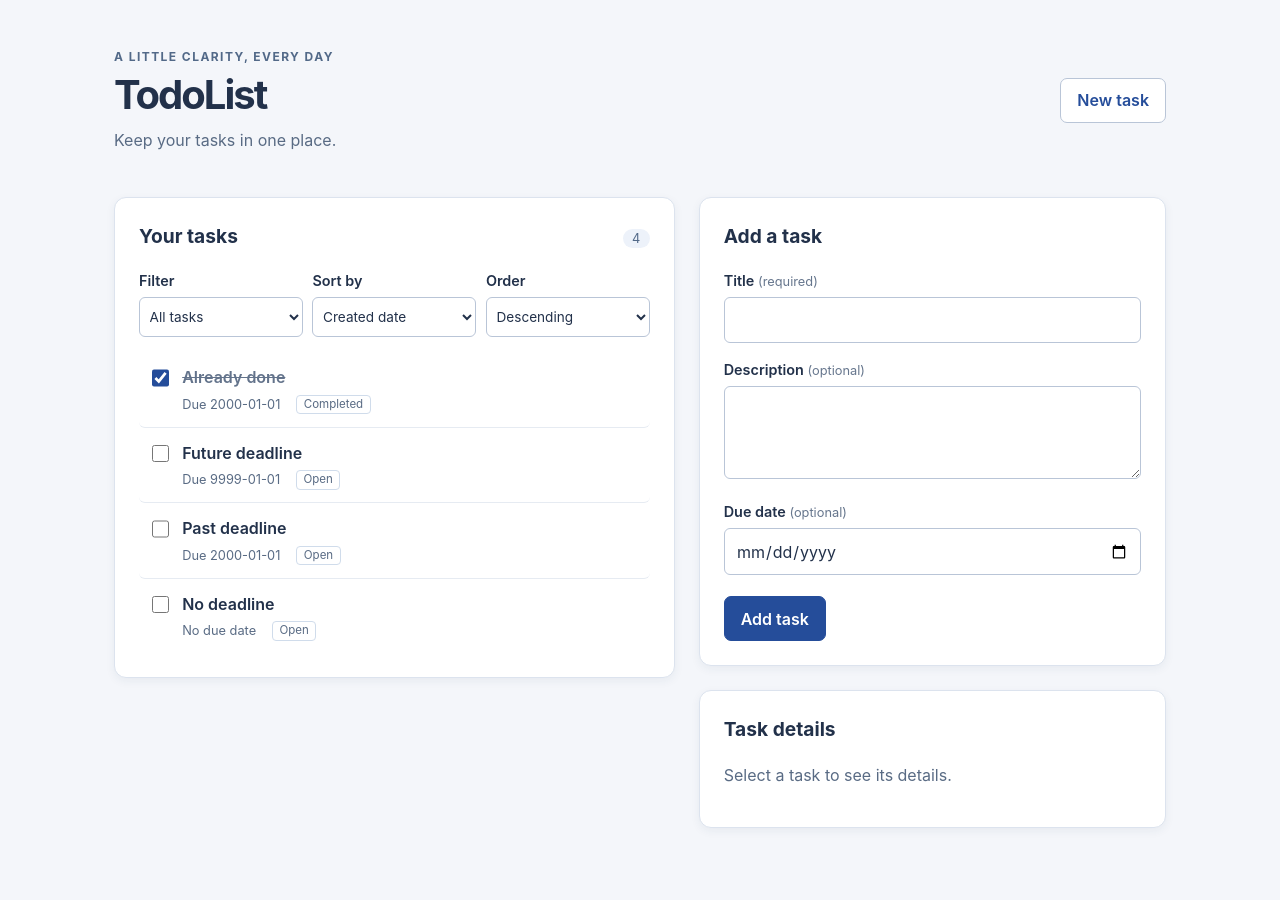
task workflow › shows overdue matches and distinguishes a filtered empty view from an empty task list
Select "Overdue" in the dropdown labelled "Filter" at (221, 317), box [139, 297, 303, 337]
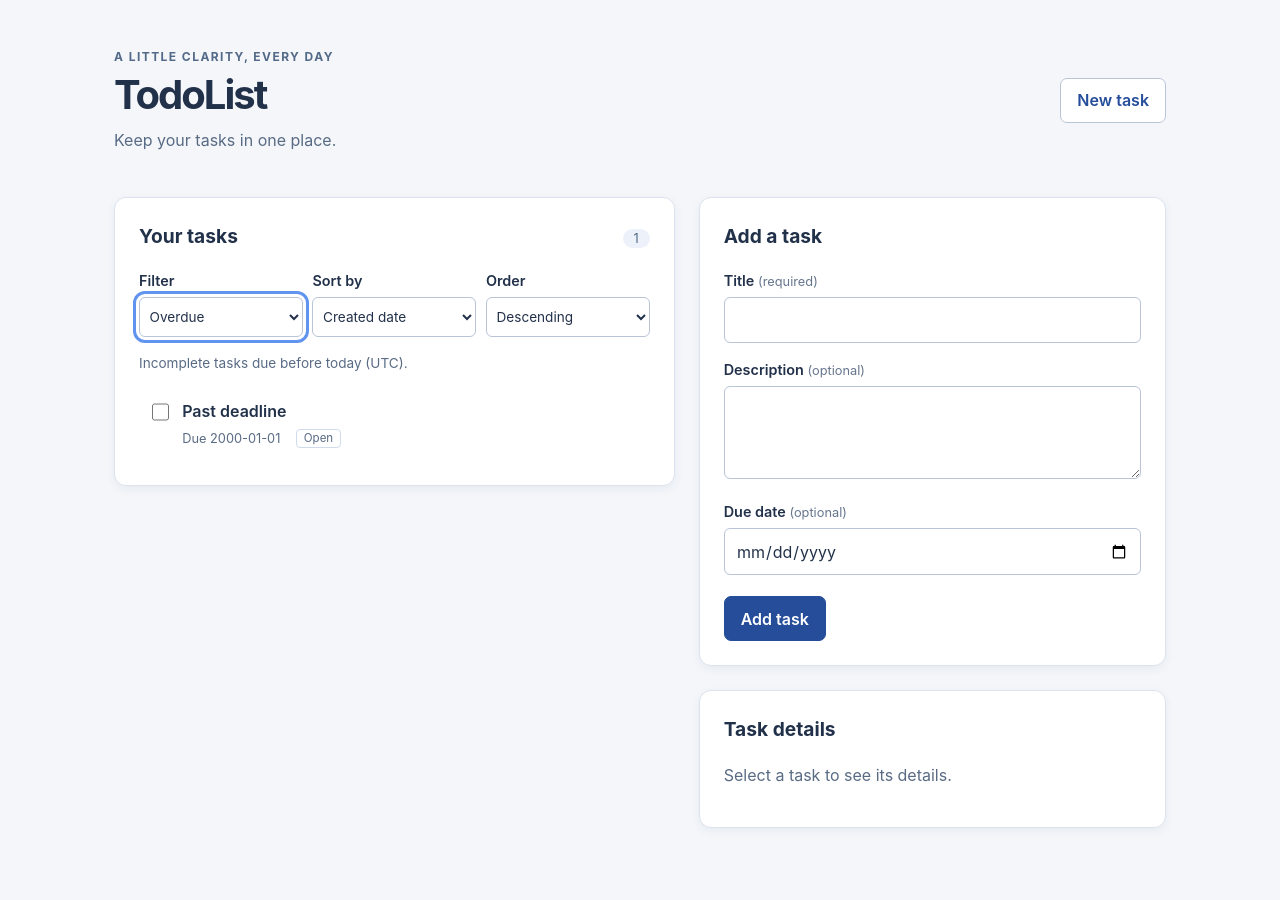
Result: the checkbox named "Mark Past deadline complete" is shown
Result: the number of checkboxes is 1
Result: the text "Incomplete tasks due before today (UTC)." is shown at [139, 355, 408, 371]
Click the checkbox at (161, 412), box [152, 403, 169, 421]
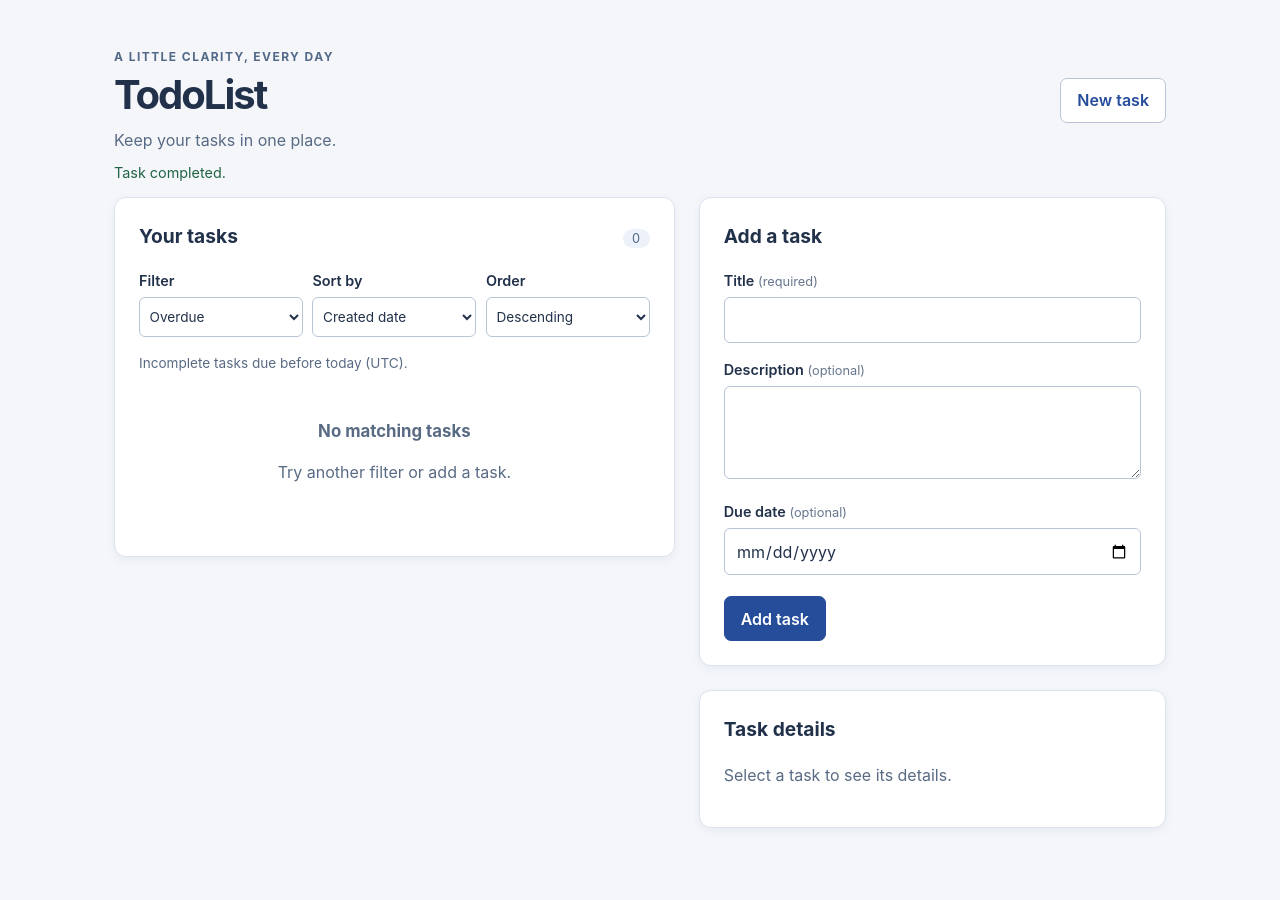
Result: the heading "No matching tasks" is shown at [318, 420, 471, 440]
